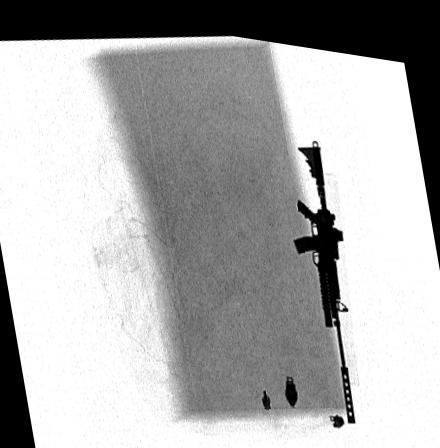Gun: (294, 129, 357, 414)
